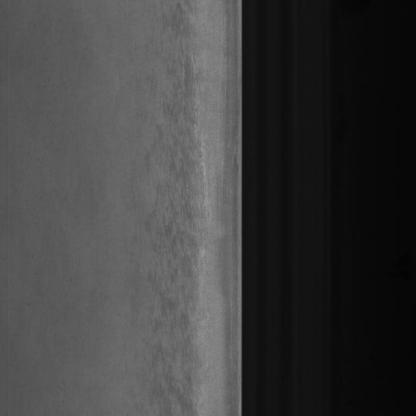silk_spot: (140, 55, 203, 390)
